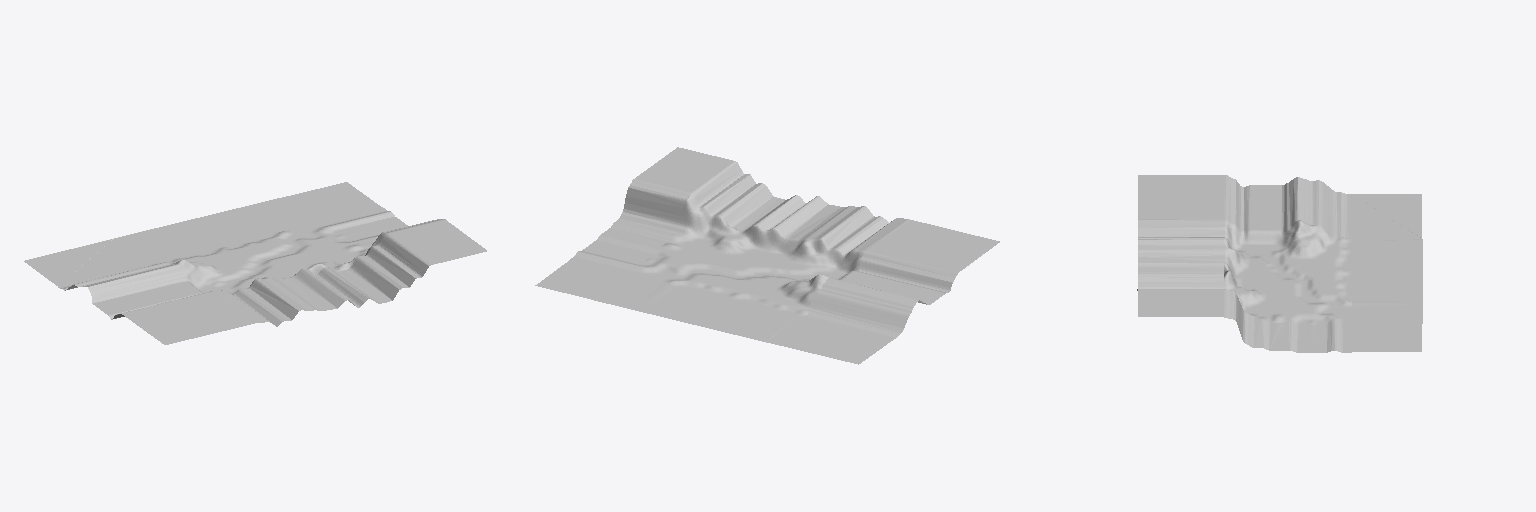
Rendered from terrain_low_poly.obj.
3 views of the same model, side by side, from view 1: azimuth 30°, elevation 25°; view 2: azimuth 150°, elevation 25°; view 3: azimuth 270°, elevation 25° (orthographic).
Visible parts, largest first — view 1: Plane; view 2: Plane; view 3: Plane.
Boxes of the visible parts, box(x1,y1,x2,y2) form: Plane: box(24, 182, 486, 344); Plane: box(535, 147, 999, 364); Plane: box(1137, 175, 1422, 352).
Bounding box in the file's own units: 38.65 × 3.97 × 29.32.